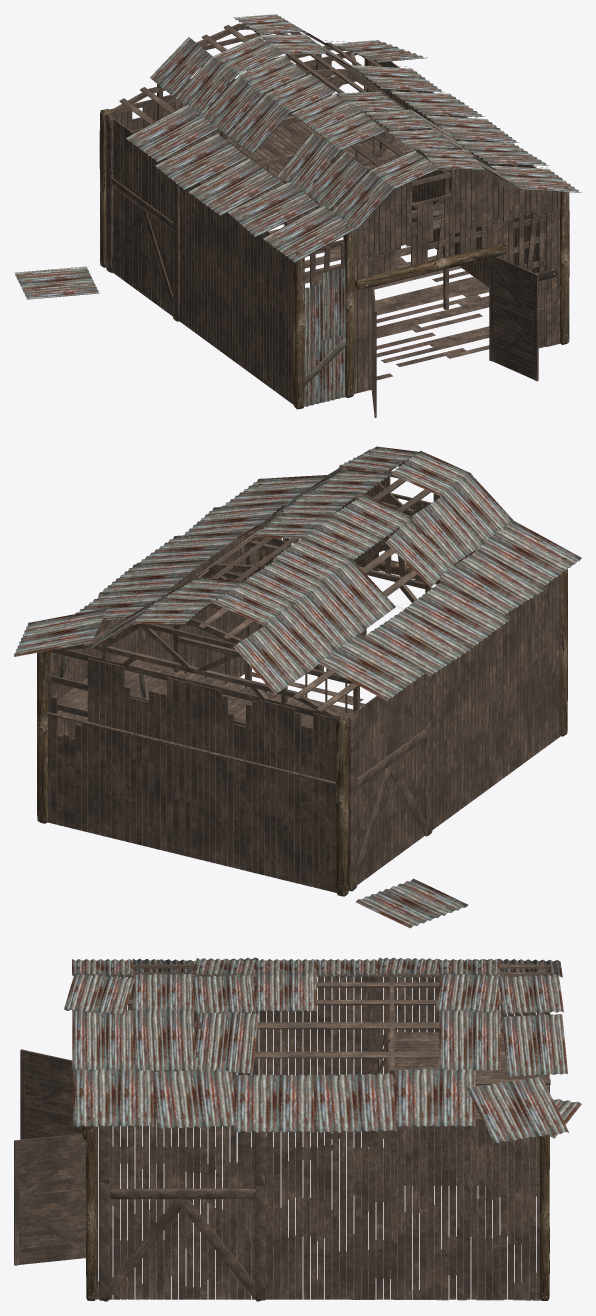
The model's file is barn.glb.
3 renders of one model, top to bottom at view 1: azimuth 30°, elevation 25°; view 2: azimuth 150°, elevation 25°; view 3: azimuth 270°, elevation 25°, orthographic. The views are drawn at different scales.
Parts seen in each view (by area): view 1: Object_7, Object_25, Object_11, Object_5, Object_38; view 2: Object_7, Object_25, Object_11, Object_5; view 3: Object_7, Object_25, Object_5, Object_11.
Boxes of the visible parts, x1=… form: Object_7: x1=105, y1=23, x2=560, y2=417; Object_25: x1=14, y1=14, x2=581, y2=406; Object_11: x1=99, y1=45, x2=569, y2=409; Object_5: x1=255, y1=133, x2=545, y2=380; Object_38: x1=284, y1=52, x2=443, y2=386; Object_7: x1=45, y1=459, x2=560, y2=892; Object_25: x1=14, y1=446, x2=581, y2=928; Object_11: x1=37, y1=483, x2=567, y2=896; Object_5: x1=177, y1=476, x2=436, y2=712; Object_7: x1=14, y1=961, x2=550, y2=1301; Object_25: x1=64, y1=957, x2=581, y2=1143; Object_5: x1=98, y1=1033, x2=540, y2=1300; Object_11: x1=82, y1=1011, x2=549, y2=1300.
Size of the model in its own units: 9.99 by 5.18 by 10.61.
Materials: 5 (5 with a texture image).
